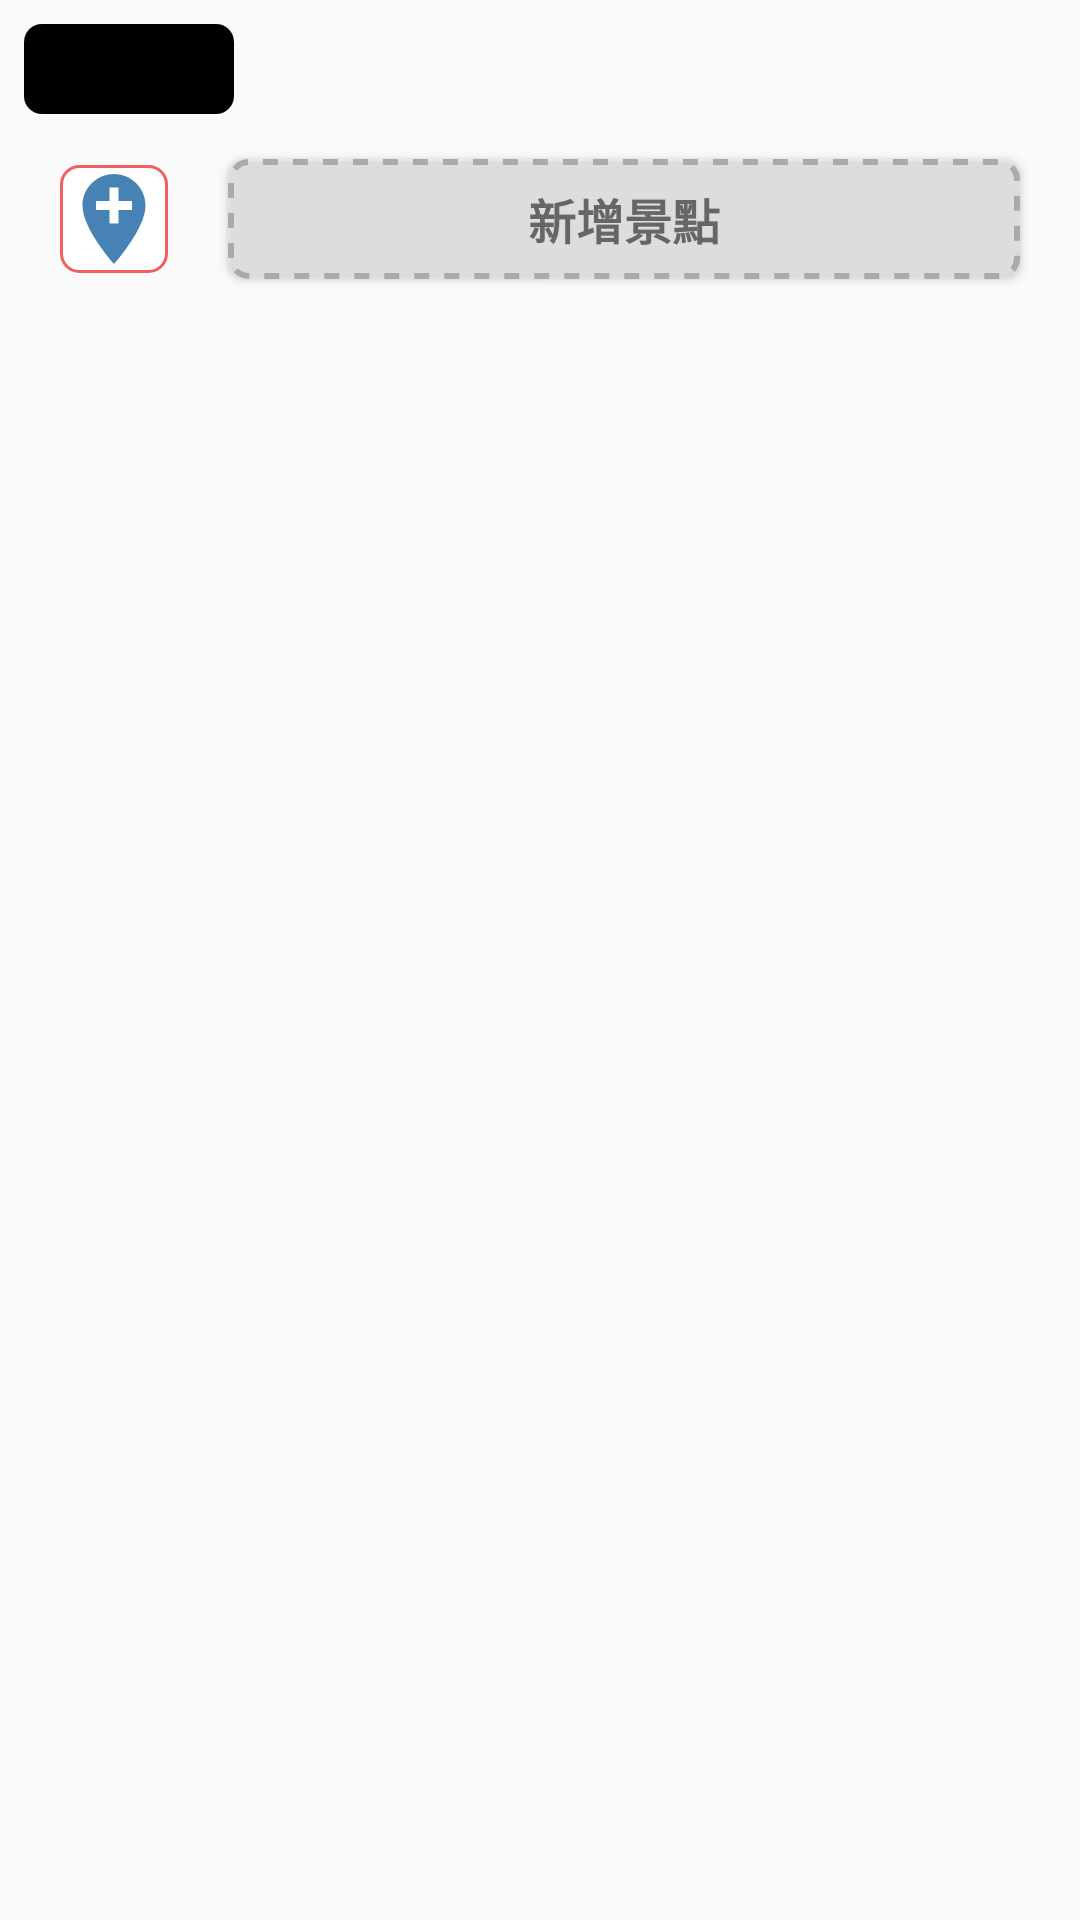

Screen size 1080px×1920px. Icon name, then its box in pixels as [x1, y1, x2, y2]:
add location: [60, 165, 168, 273]
